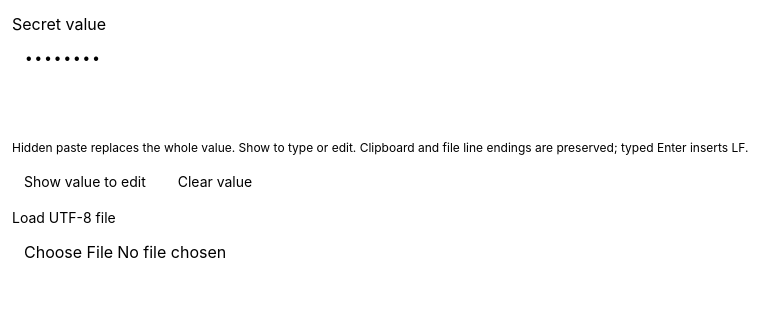
Test: native undo is refused instead of restoring normalized bytes
Click the button "Show value to edit" at (85, 182), box [12,164,158,200]
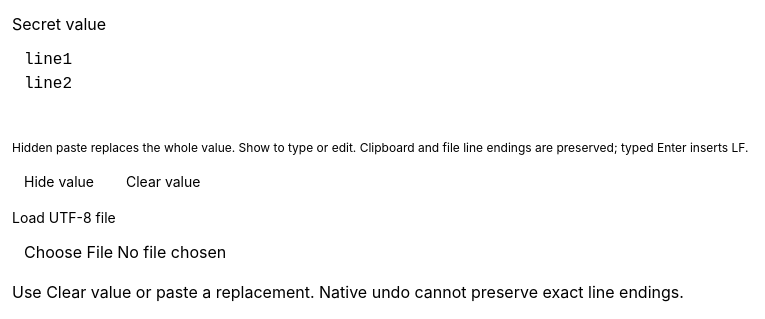
Check: the message shows "Native undo cannot preserve exact line endings", box [12,282,684,302]
